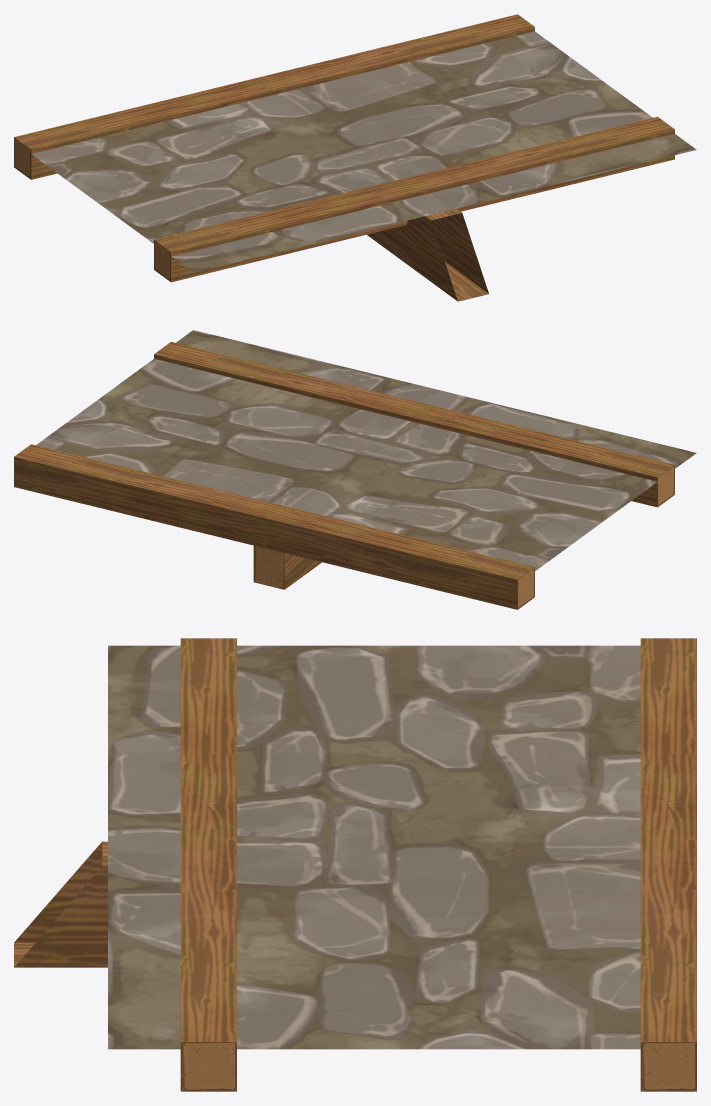
File: Overhang_RoofIncline_UnevenBricks.obj
3 views of the same model, one above another, from view 1: azimuth 30°, elevation 25°; view 2: azimuth 150°, elevation 25°; view 3: azimuth 270°, elevation 25° (orthographic). The views are drawn at different scales.
Parts seen in each view (by area): view 1: Overhang_RoofIncline_UnevenBricks; view 2: Overhang_RoofIncline_UnevenBricks; view 3: Overhang_RoofIncline_UnevenBricks.
Part boxes in pixels (left/top/right/bottom): Overhang_RoofIncline_UnevenBricks: left=14, top=14, right=696, bottom=301; Overhang_RoofIncline_UnevenBricks: left=14, top=330, right=696, bottom=609; Overhang_RoofIncline_UnevenBricks: left=14, top=638, right=696, bottom=1091.
Bounding box in the file's own units: 2 × 0.2659 × 1.43.
